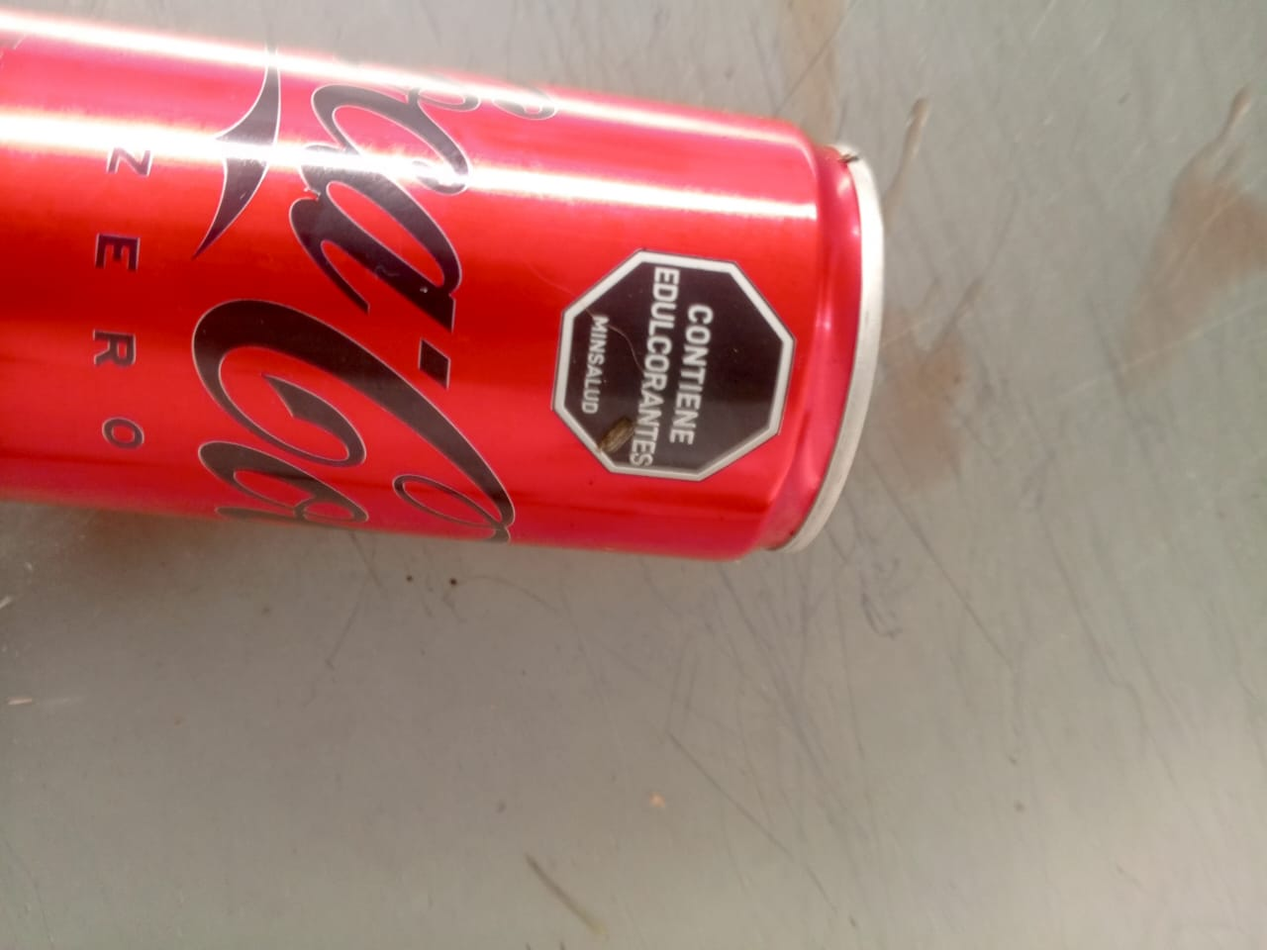Metal: (0, 12, 888, 563)
